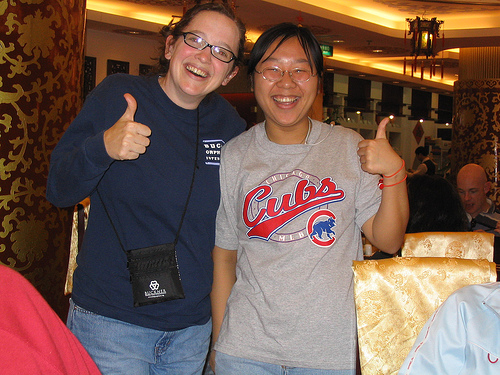without_mask: (163, 8, 243, 99), (251, 40, 318, 126), (454, 172, 494, 216)
